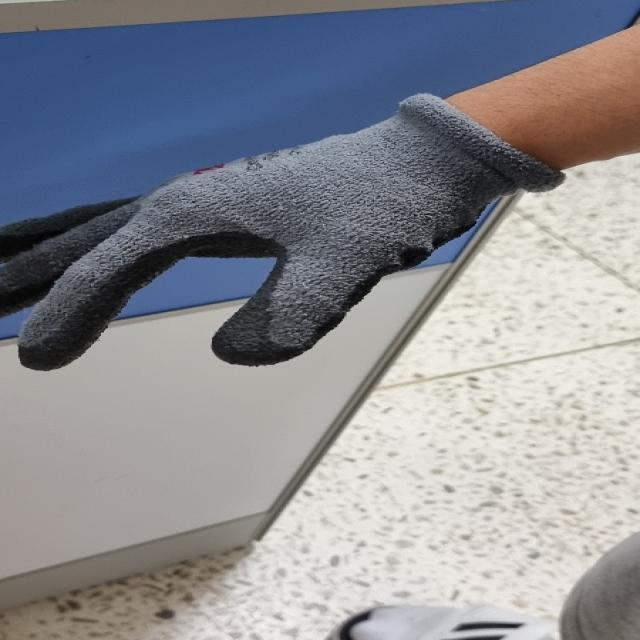Gloves: (0, 89, 570, 374)
